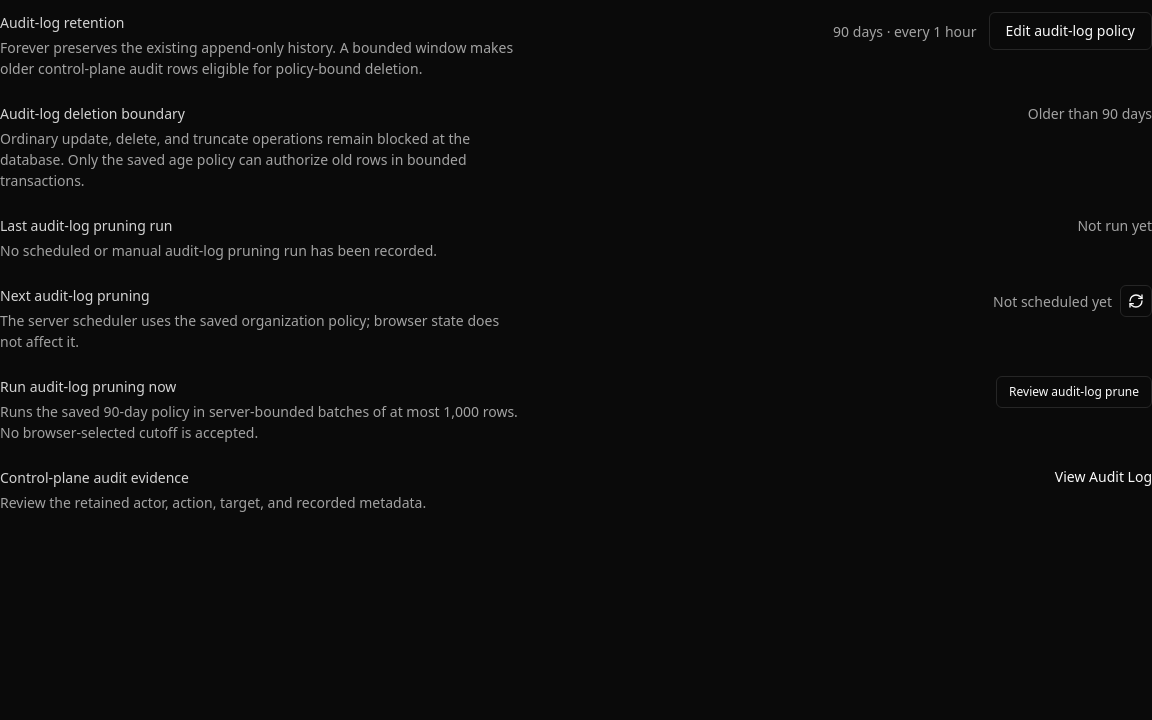
Test: audit-log retention settings › confirms a shorter bounded window before mutation
Check: the text "90 days · every 1 hour" is shown, box [833,20,976,42]
Step 1. Click the button "Edit audit-log policy" → (1070, 31), box [988,12,1151,50]
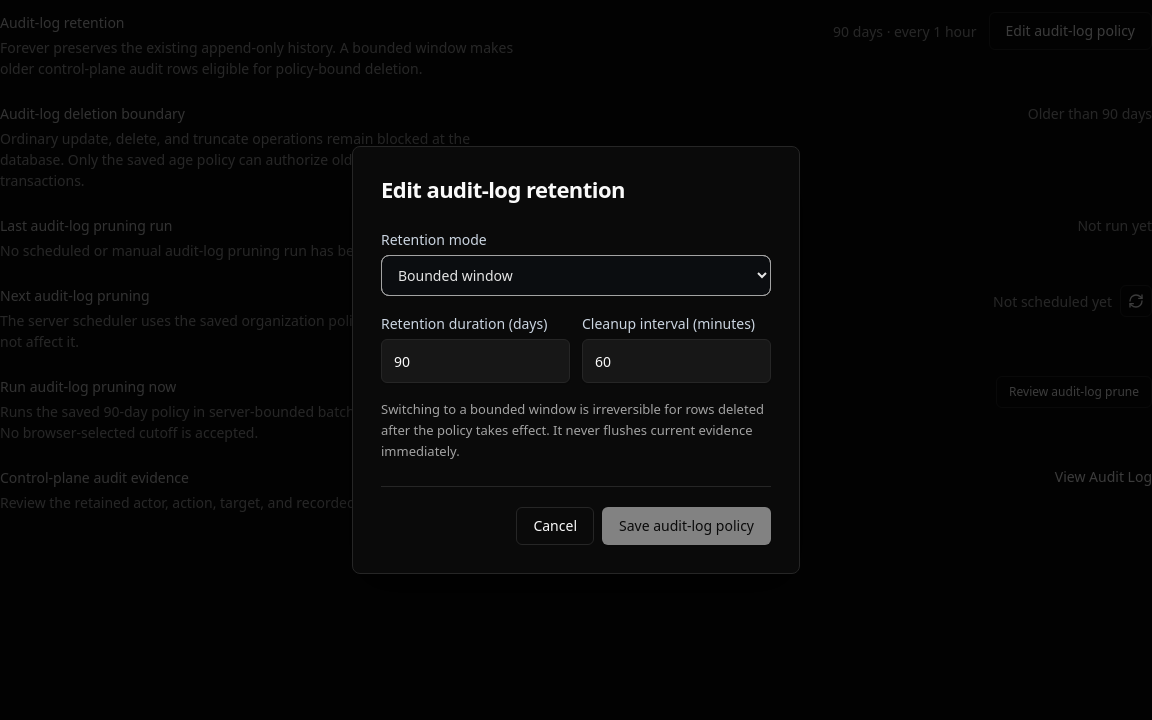
Step 2. Replace the text in the number field labelled "Retention duration (days)" with "30" → (476, 361), box [381,339,570,383]
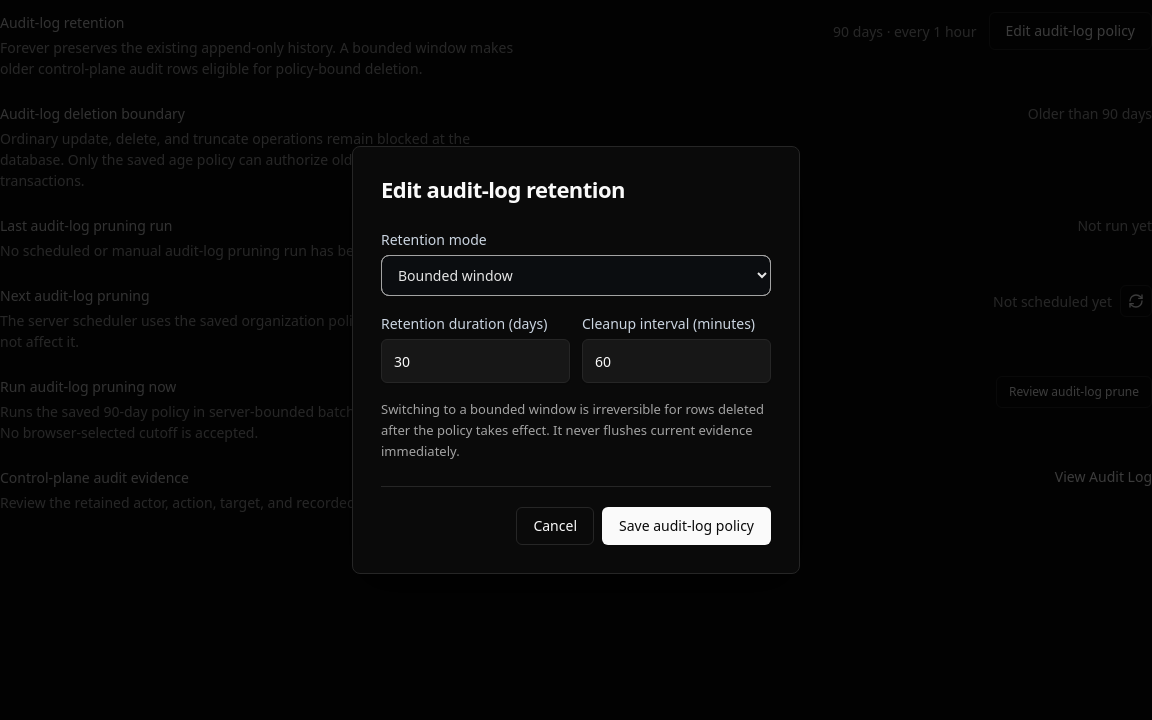
Step 3. Click the button "Save audit-log policy" → (686, 526), box [602,507,771,545]
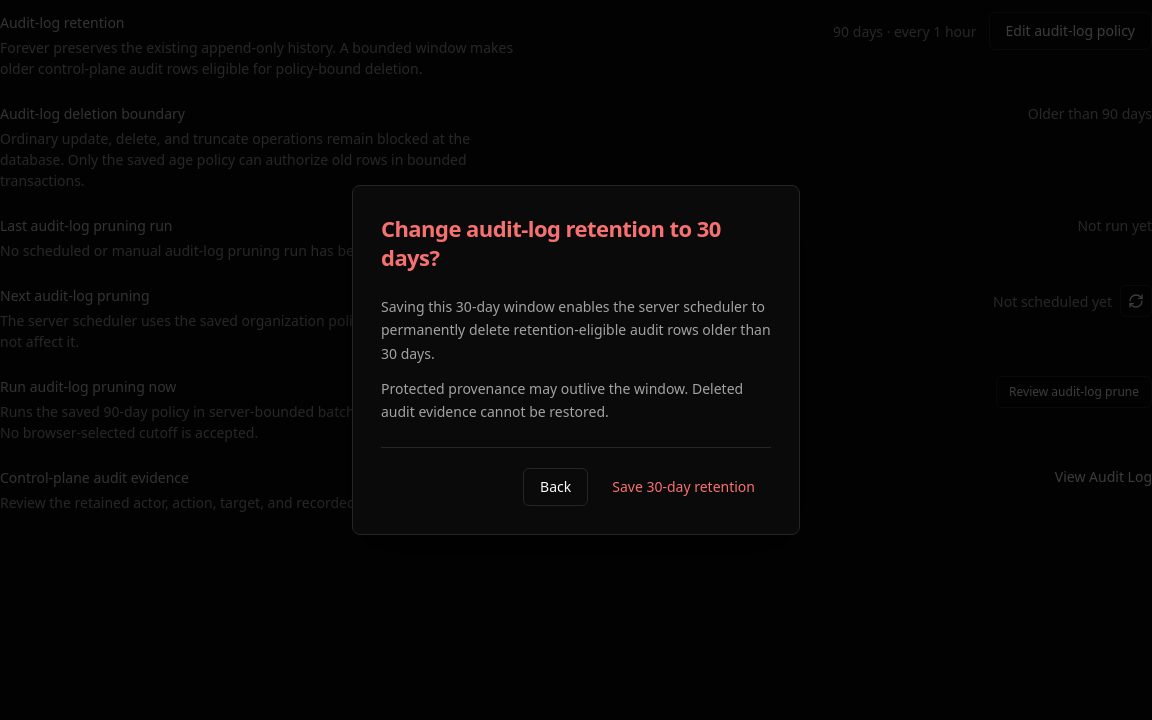
Check: the dialog "Change audit-log retention to 30 days?" is shown, box [352,185,800,535]
Step 4. Click the button "Save 30-day retention" → (684, 487), box [596,468,771,506]
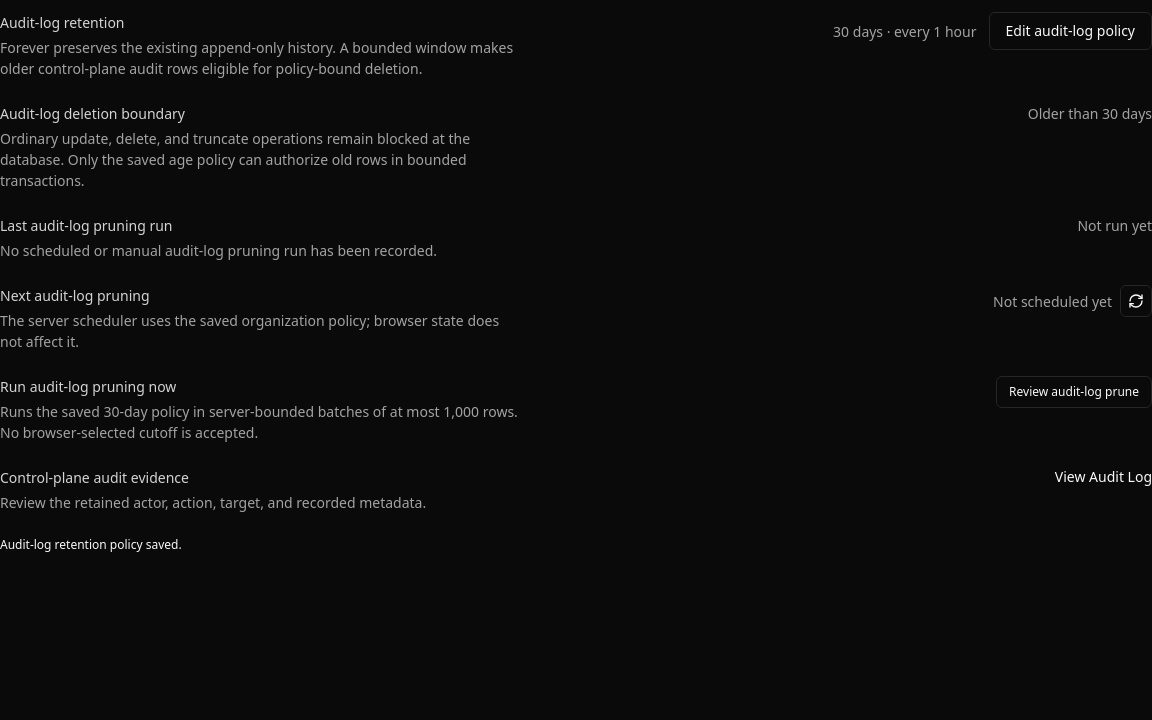
Check: the text "30 days · every 1 hour" is shown, box [833,20,976,42]
